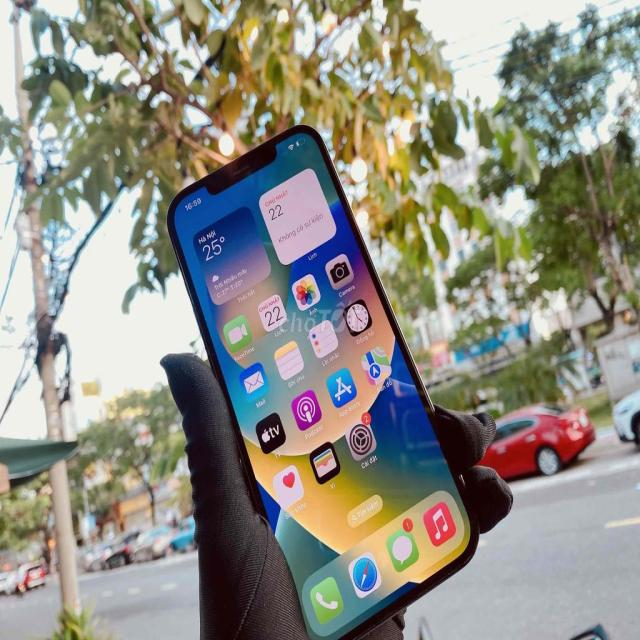gen_12_13: (167, 122, 469, 640)
